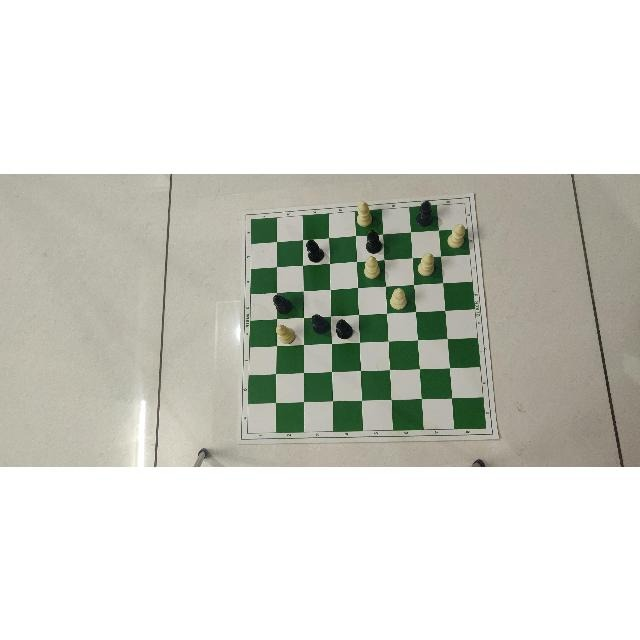black-bishop: (306, 236, 324, 262), (272, 291, 292, 314), (416, 199, 433, 225), (365, 228, 381, 253), (336, 317, 354, 338), (311, 312, 328, 333)
white-bishop: (447, 221, 467, 249), (355, 198, 373, 226), (416, 252, 436, 276), (275, 323, 295, 343), (391, 285, 407, 309), (363, 256, 380, 278)
